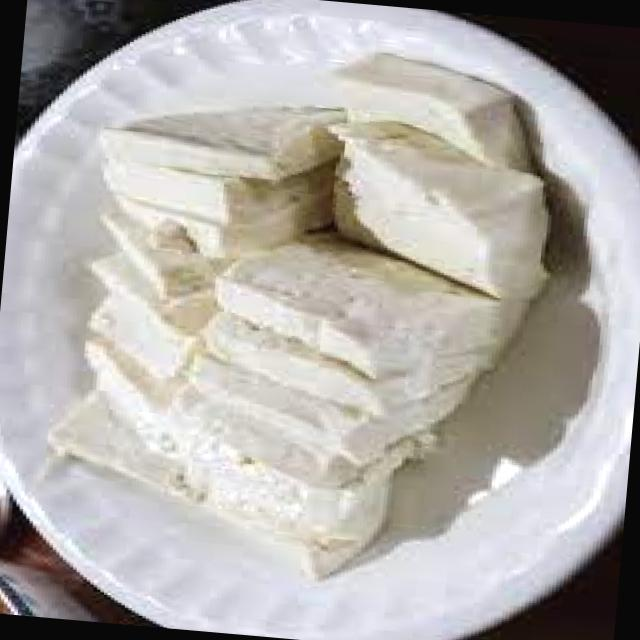tofu: (38, 40, 592, 537), (298, 134, 534, 291)
